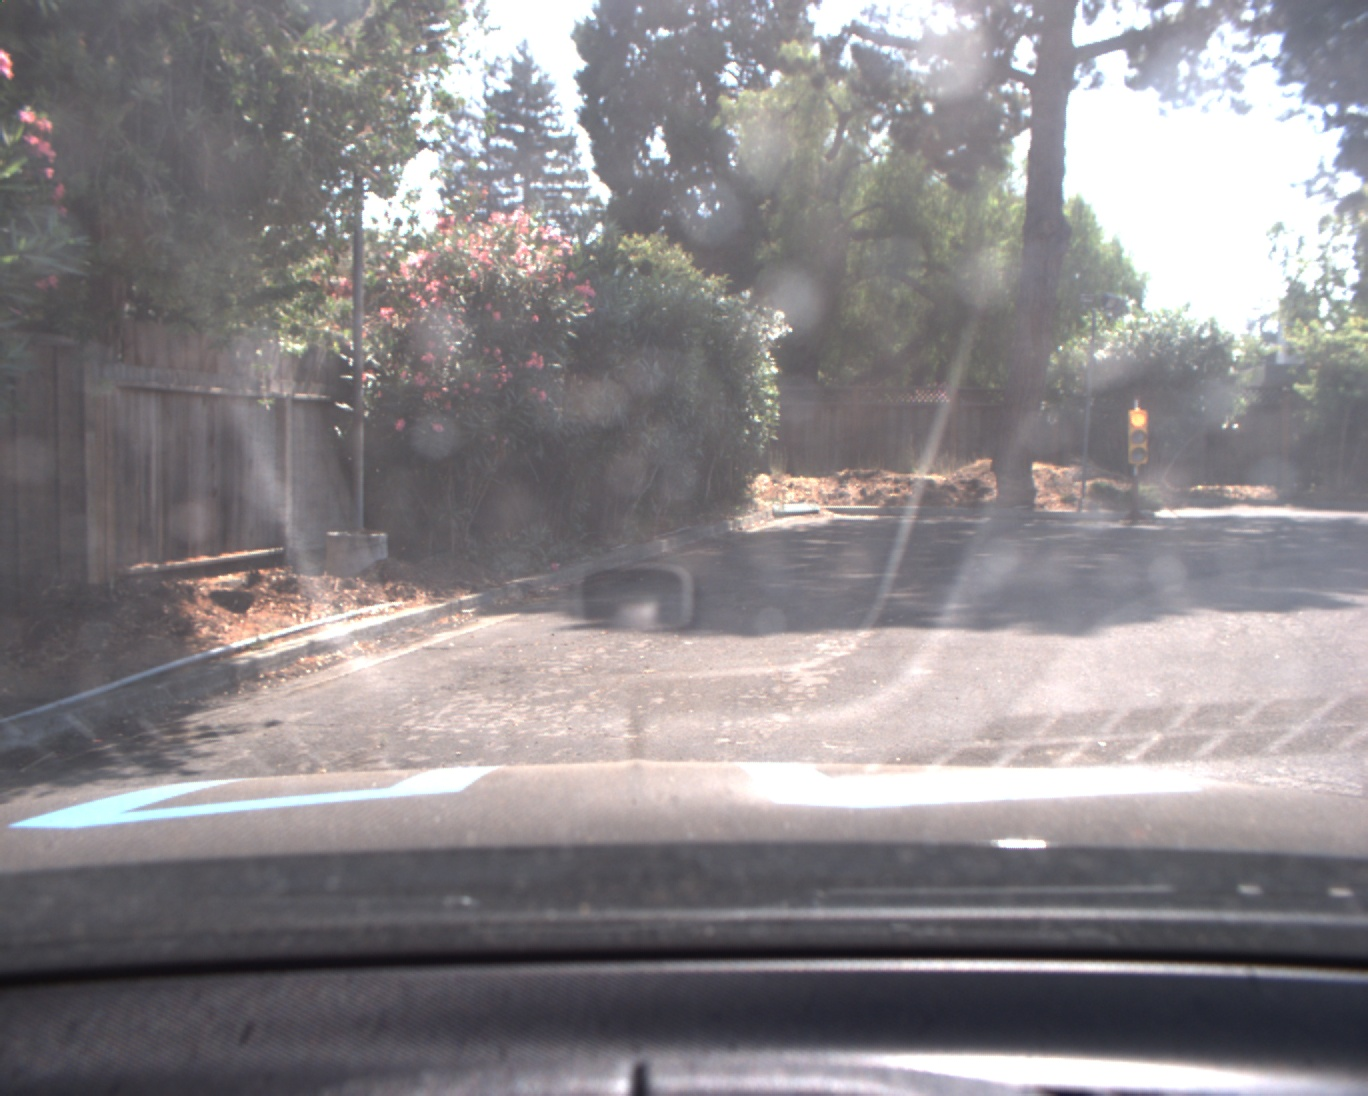red: (1127, 409, 1147, 464)
